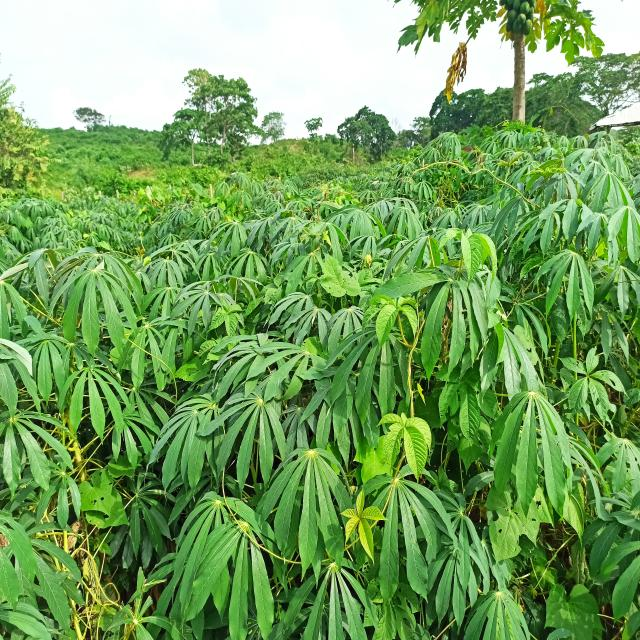Maleza: (375, 411, 436, 479), (487, 500, 553, 562), (72, 470, 131, 539), (339, 490, 387, 563), (316, 248, 365, 297), (206, 292, 255, 337)
